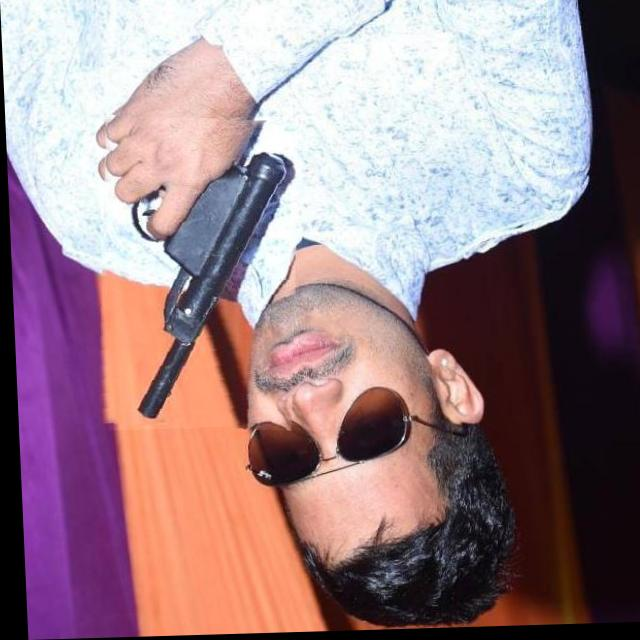handgun: (89, 114, 304, 434)
